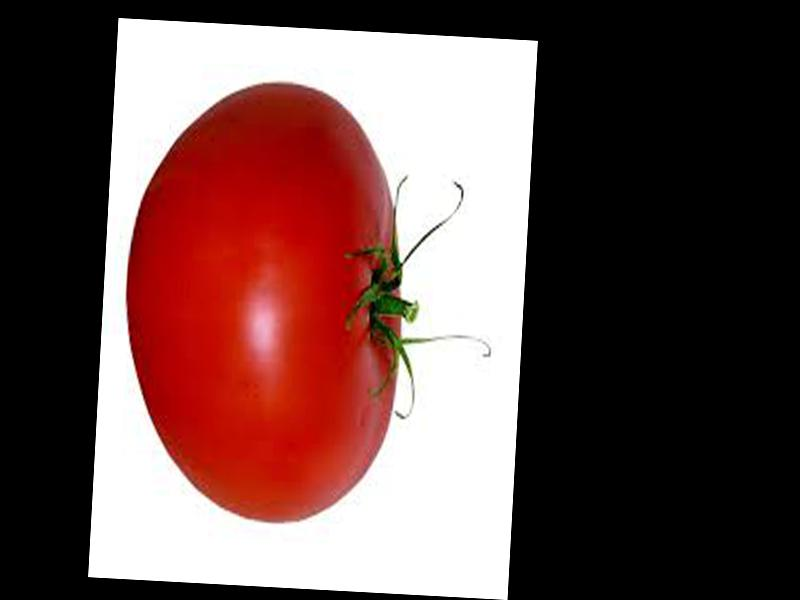Tomato: (116, 78, 413, 524)
